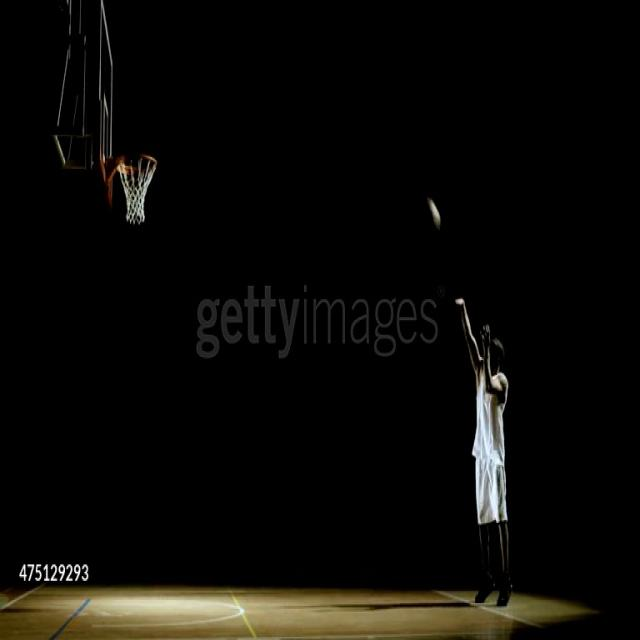ball: (423, 195, 442, 232)
